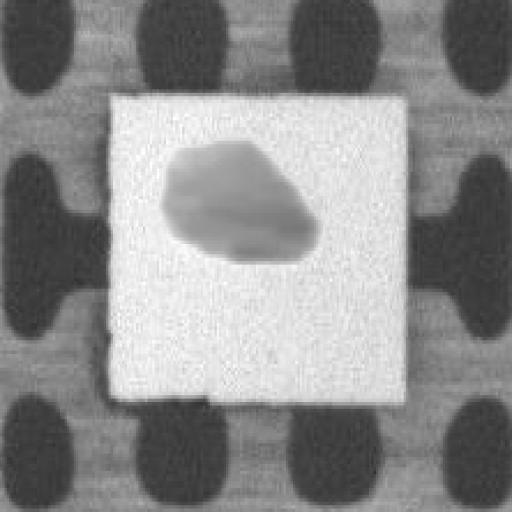DIE_INK: (152, 127, 318, 265)
